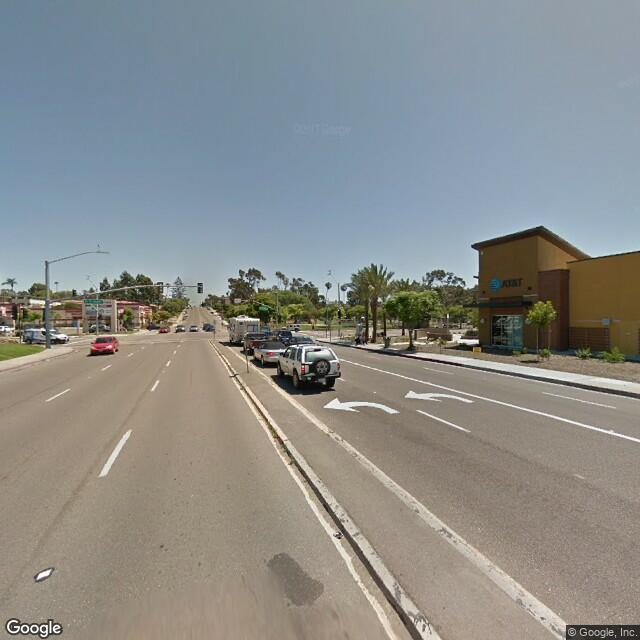litter: (31, 564, 55, 585), (334, 526, 342, 541)
